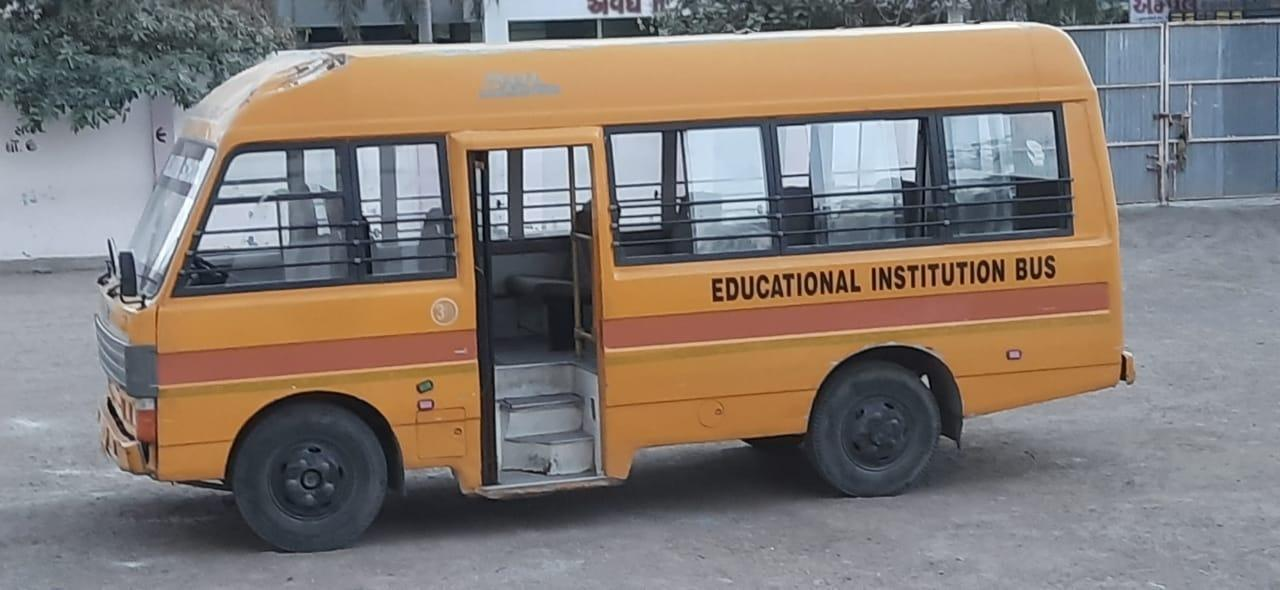Bus: (92, 29, 1140, 534)
